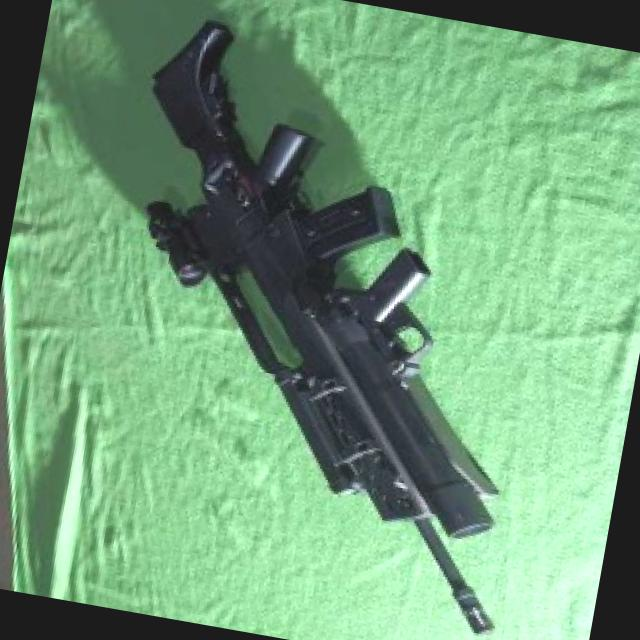long weapon: (93, 16, 540, 640)
